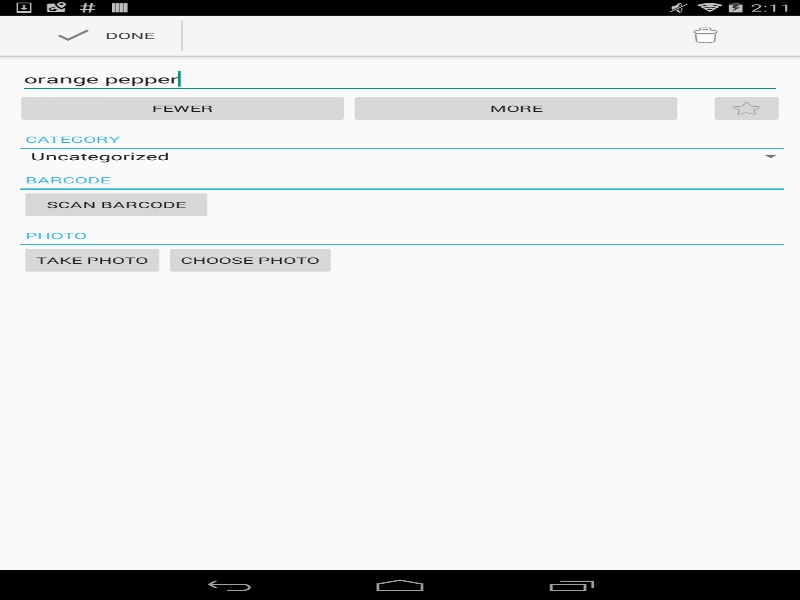Button: (16, 93, 349, 123), (349, 93, 682, 123), (20, 189, 212, 219), (164, 245, 336, 275), (20, 245, 164, 275), (709, 93, 784, 123), (684, 15, 726, 55)
Input: (18, 65, 781, 93)
